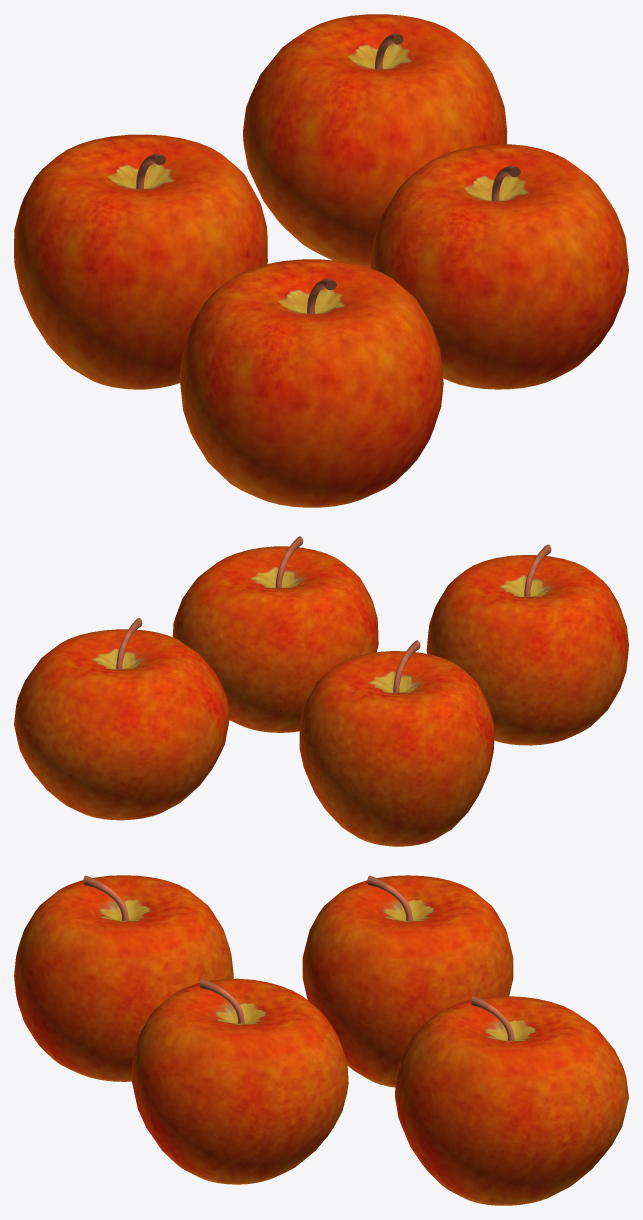
Rendered from apples.glb.
The picture shows the model from 3 angles, top to bottom: view 1: azimuth 30°, elevation 25°; view 2: azimuth 150°, elevation 25°; view 3: azimuth 270°, elevation 25°; orthographic projection. The views are drawn at different scales.
Bounding box in the file's own units: 0.1477 × 0.0647 × 0.1787.
1 material, 1 textured.
